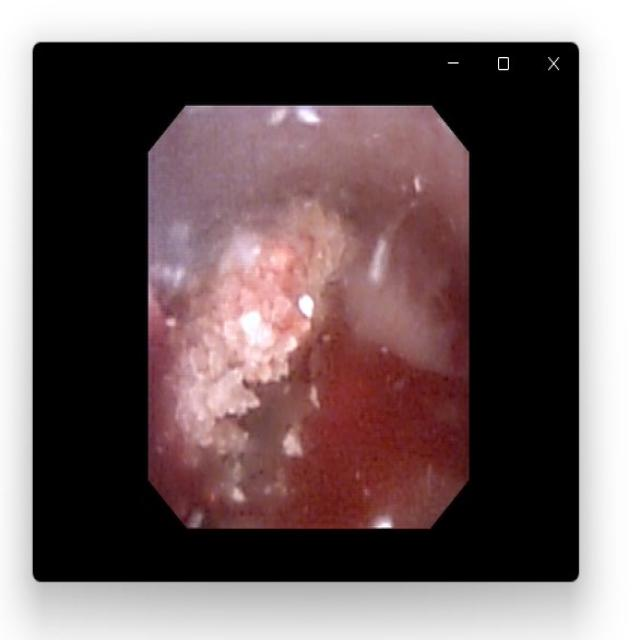stone: (172, 196, 356, 504)
